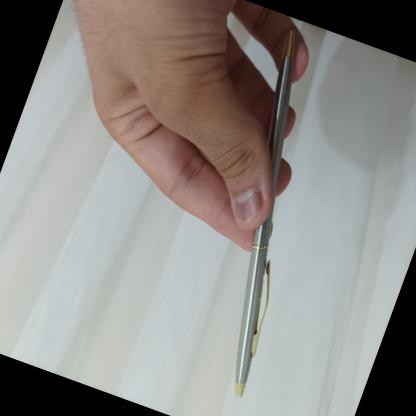pencil: (235, 35, 293, 397)
